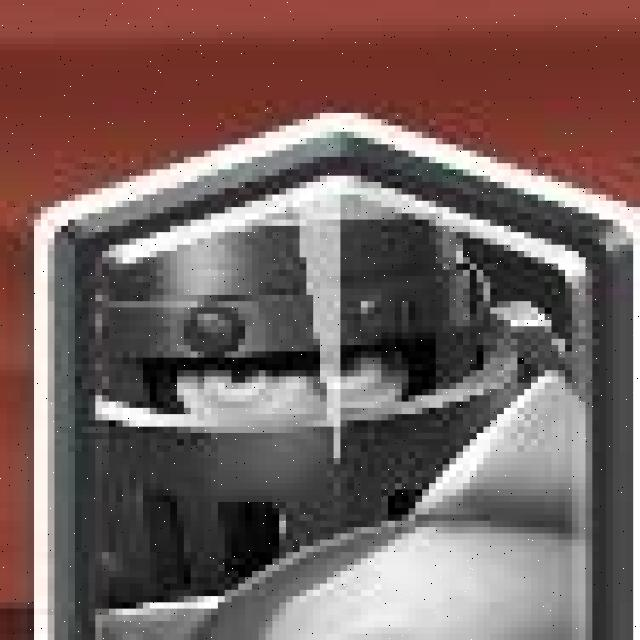Mega_Knight: (35, 124, 640, 640)
